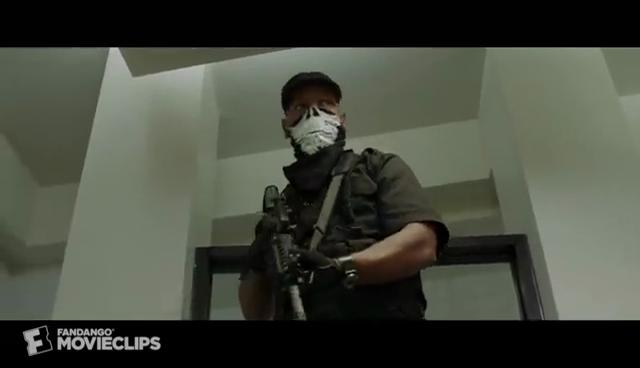criminal: (239, 72, 451, 319)
weapon: (260, 183, 311, 320)
